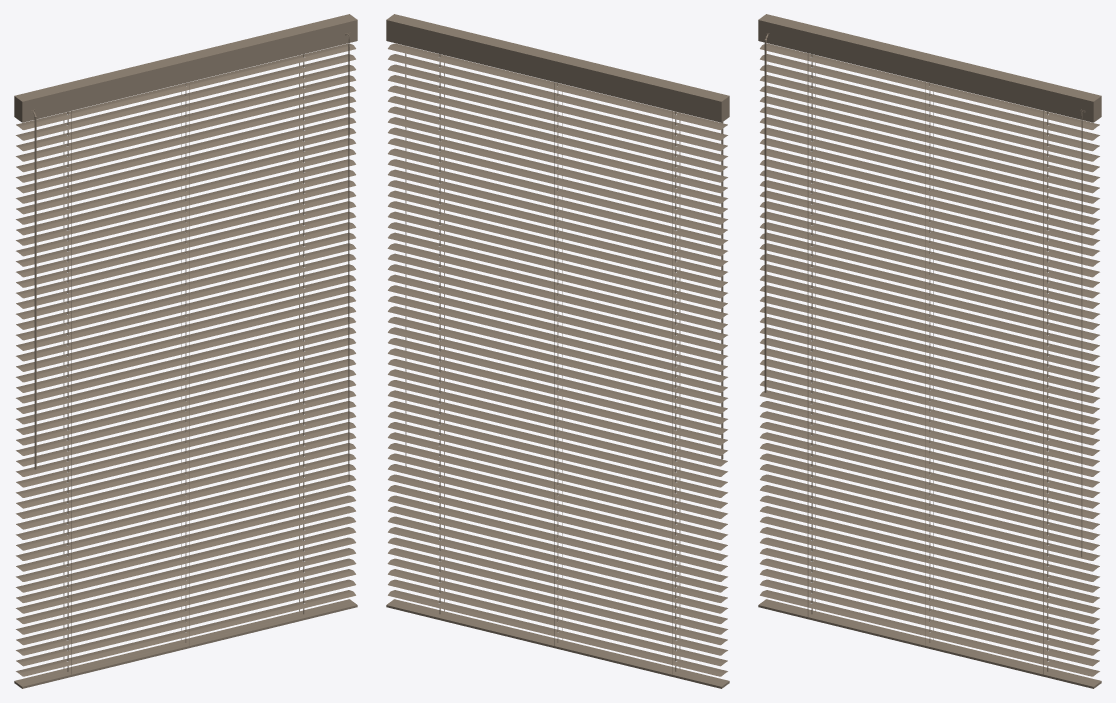
File: venetian-blind.glb
The picture shows the model from 3 angles, left to right: view 1: azimuth 30°, elevation 25°; view 2: azimuth 150°, elevation 25°; view 3: azimuth 330°, elevation 25°; orthographic projection.
Parts seen in each view (by area): view 1: Venetian_slats, VenetianFrame, Venetian_base, Venetian_stick, Venetian_updown, String.L, String.R, String.C, String.f.C, String.f.R; view 2: Venetian_slats, VenetianFrame, Venetian_base, String.L, String.R, String.C, String.b.C, String.b.R; view 3: Venetian_slats, VenetianFrame, Venetian_base, String.f.R, Venetian_stick, Venetian_updown, String.R, String.L, String.C, String.f.L, String.f.C.
Boxes of the visible parts, x1,y1,x2,y2 form: Venetian_slats: (16, 43, 356, 683); VenetianFrame: (14, 14, 357, 122); Venetian_base: (14, 599, 357, 688); Venetian_stick: (31, 109, 36, 469); Venetian_updown: (345, 33, 350, 480); String.L: (303, 54, 304, 614); String.R: (67, 111, 68, 671); String.C: (185, 83, 186, 642); String.f.C: (189, 82, 189, 645); String.f.R: (71, 111, 71, 674); Venetian_slats: (387, 43, 727, 683); VenetianFrame: (386, 14, 729, 122); Venetian_base: (386, 599, 729, 688); String.L: (439, 54, 440, 614); String.R: (675, 111, 676, 671); String.C: (557, 83, 558, 642); String.b.C: (554, 82, 554, 645); String.b.R: (672, 111, 672, 674); Venetian_slats: (759, 43, 1099, 683); VenetianFrame: (758, 14, 1101, 122); Venetian_base: (758, 599, 1101, 688); String.f.R: (807, 53, 808, 616); Venetian_stick: (764, 33, 769, 392); Venetian_updown: (1080, 109, 1085, 557); String.R: (811, 54, 812, 614); String.L: (1047, 111, 1048, 671); String.C: (929, 83, 930, 642); String.f.L: (1043, 110, 1043, 674); String.f.C: (925, 82, 925, 645).
Size of the model in its own units: 1 by 1.68 by 0.0599.
